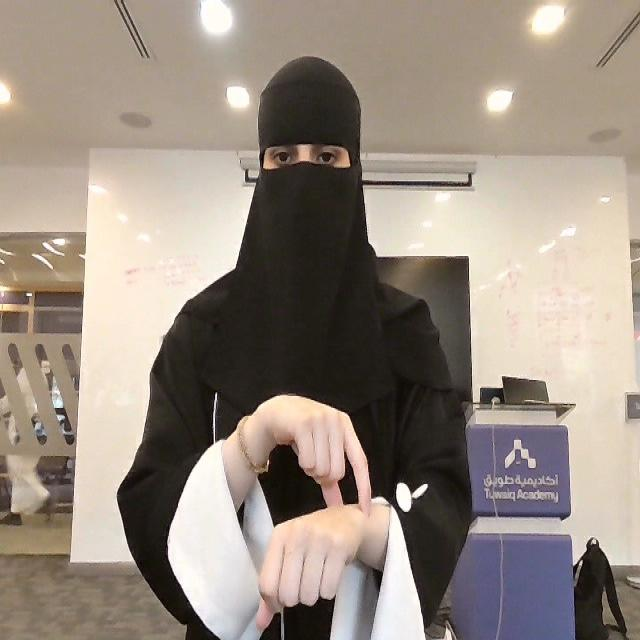appointment: (251, 388, 385, 632)
